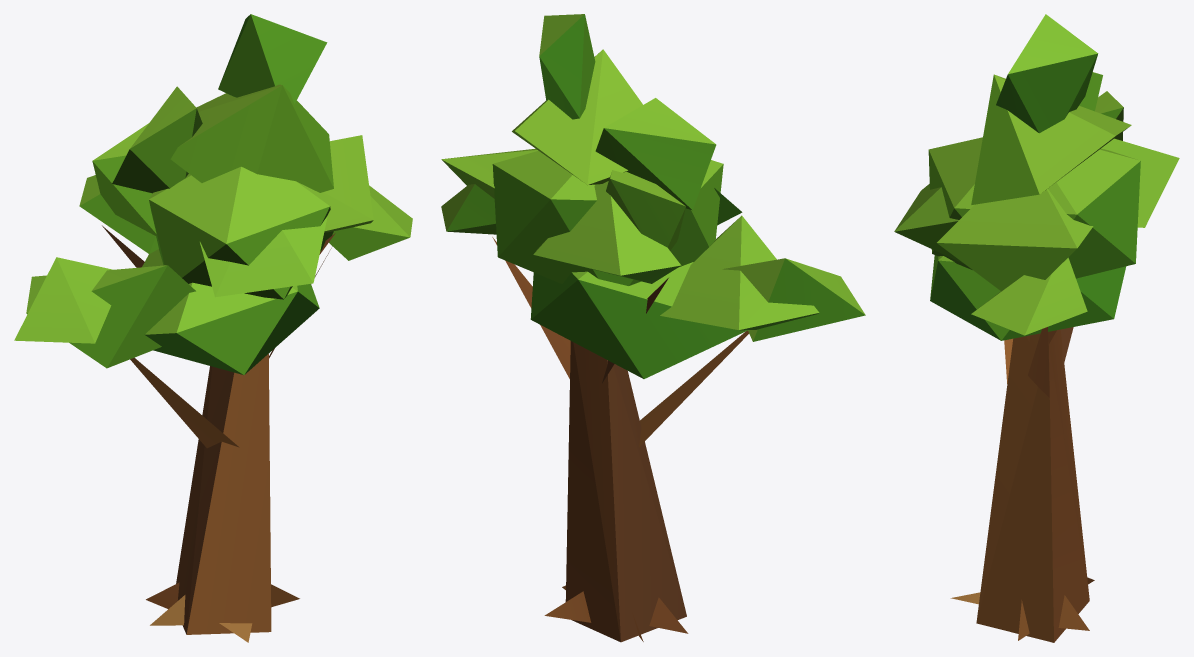
3 renders of one model, left to right at view 1: azimuth 30°, elevation 25°; view 2: azimuth 150°, elevation 25°; view 3: azimuth 270°, elevation 25°, orthographic. The views are drawn at different scales.
Parts seen in each view (by area): view 1: WK_RegularTree_LOD2_Compact; view 2: WK_RegularTree_LOD2_Compact; view 3: WK_RegularTree_LOD2_Compact.
Boxes of the visible parts, x1,y1,x2,y2 form: WK_RegularTree_LOD2_Compact: (14,14,412,642); WK_RegularTree_LOD2_Compact: (441,14,865,642); WK_RegularTree_LOD2_Compact: (894,14,1179,642).
Bounding box in the file's own units: 4.71 × 6.62 × 2.74.
